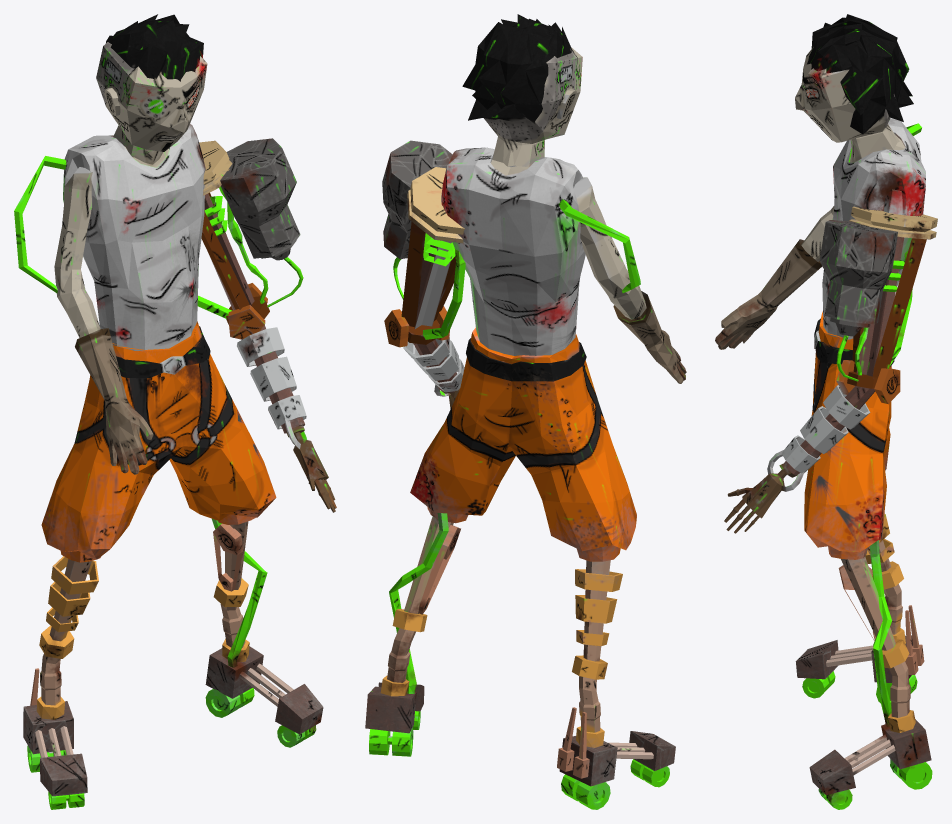
File: CyborgFINALAnimation_000040.obj
3 renders of one model, left to right at view 1: azimuth 30°, elevation 25°; view 2: azimuth 150°, elevation 25°; view 3: azimuth 270°, elevation 25°, orthographic. The views are drawn at different scales.
Parts seen in each view (by area): view 1: CyborgMesh_Cube.002; view 2: CyborgMesh_Cube.002; view 3: CyborgMesh_Cube.002.
Boxes of the visible parts, bbox=[...] form: CyborgMesh_Cube.002: bbox=[14, 14, 336, 809]; CyborgMesh_Cube.002: bbox=[365, 14, 686, 809]; CyborgMesh_Cube.002: bbox=[715, 14, 937, 809].
Size of the model in its own units: 3.77 by 9.67 by 2.71.
